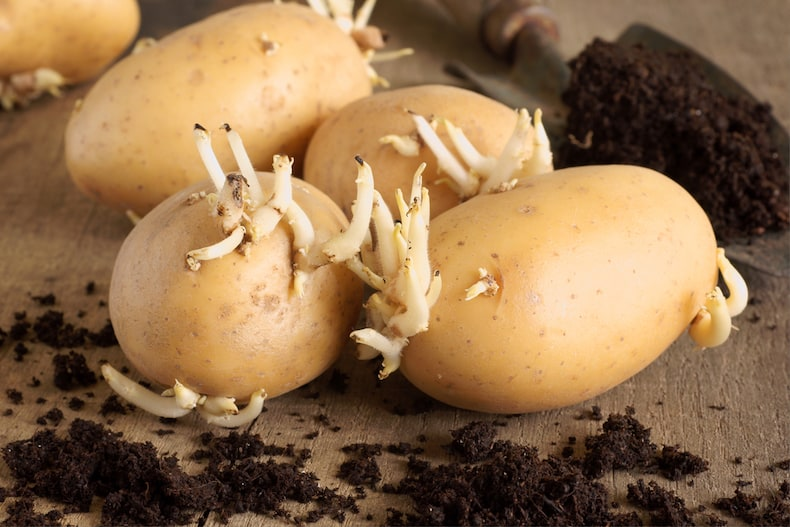potato rotten: (91, 166, 361, 436)
